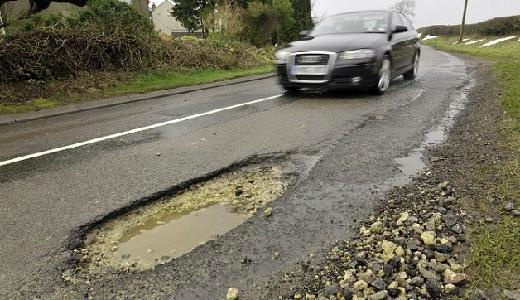pothole: (66, 149, 322, 271)
